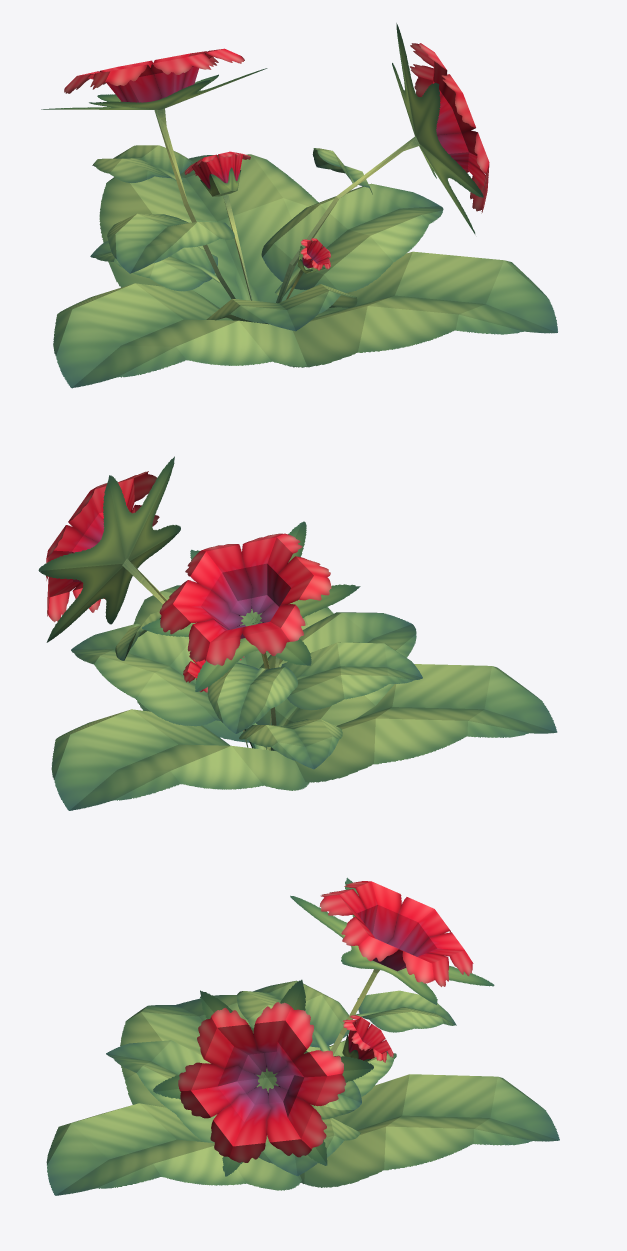
File: VEG0310010.fbx
The picture shows the model from 3 angles, top to bottom: view 1: azimuth 30°, elevation 25°; view 2: azimuth 150°, elevation 25°; view 3: azimuth 270°, elevation 25°; orthographic projection. The views are drawn at different scales.
Parts seen in each view (by area): view 1: smVEG0310010; view 2: smVEG0310010; view 3: smVEG0310010.
Part boxes in pixels (x1,y1,x2,y2): smVEG0310010: (41,23,557,388); smVEG0310010: (38,456,557,810); smVEG0310010: (46,877,559,1195).
Size of the model in its own units: 61.75 by 33.96 by 66.59.
Materials: 1 (1 with a texture image).
